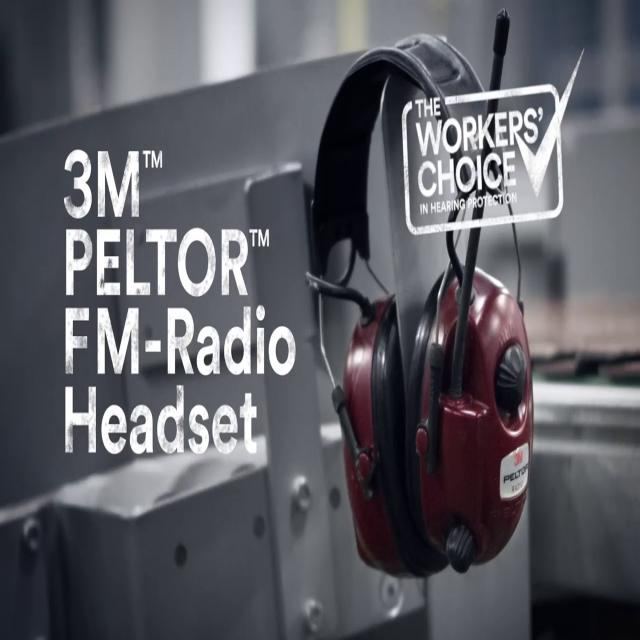earmuff: (406, 250, 536, 587), (338, 284, 440, 588)
